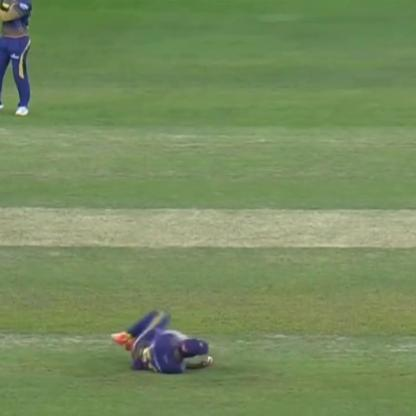ball: (202, 352, 214, 364)
